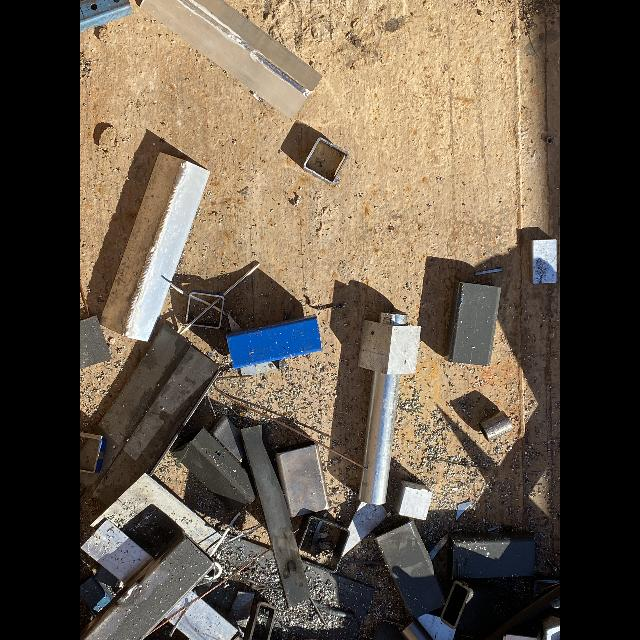Aluminium: (82, 520, 153, 589), (358, 320, 421, 375), (260, 590, 326, 639), (177, 599, 238, 640), (395, 480, 432, 520), (306, 576, 343, 610), (532, 239, 557, 284), (165, 591, 199, 619), (254, 560, 282, 588), (218, 545, 235, 579), (321, 611, 346, 630), (169, 612, 183, 625), (213, 562, 222, 580), (296, 196, 300, 206), (205, 575, 213, 579)
Copper: (150, 547, 273, 635)
Ferrous Metal: (94, 347, 216, 507), (214, 375, 362, 467), (99, 325, 190, 472), (241, 425, 310, 607), (376, 520, 444, 618), (172, 429, 255, 507), (226, 317, 322, 369), (448, 282, 501, 366), (276, 443, 329, 518), (451, 533, 535, 580), (298, 514, 350, 574), (303, 137, 348, 186), (80, 0, 133, 32), (440, 580, 473, 629), (80, 316, 111, 368), (212, 415, 244, 462), (180, 298, 221, 334), (244, 602, 277, 640), (192, 290, 224, 328), (223, 263, 259, 296), (478, 411, 513, 442), (418, 614, 456, 640), (402, 621, 432, 640), (169, 281, 188, 297), (186, 291, 193, 323), (191, 296, 210, 305), (213, 307, 221, 312)
Galvanized Steel: (140, 0, 322, 118), (101, 152, 209, 341), (85, 538, 212, 640), (92, 473, 221, 556), (342, 502, 387, 556), (227, 591, 254, 627), (241, 362, 276, 376), (227, 314, 242, 332)
Stainless Steel: (360, 372, 399, 505), (379, 312, 407, 326)
